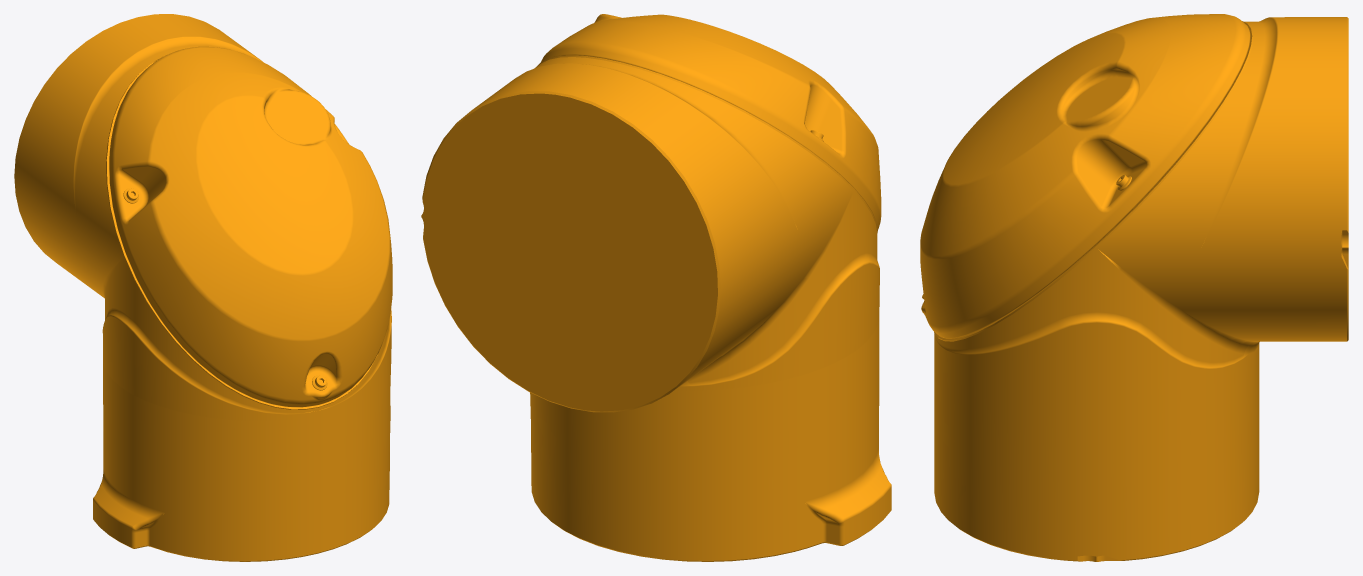
The picture shows the model from 3 angles, left to right: view 1: azimuth 30°, elevation 25°; view 2: azimuth 150°, elevation 25°; view 3: azimuth 270°, elevation 25°; orthographic projection. The views are drawn at different scales.
Visible parts, largest first — view 1: PART_J1_from_XG0000072A; view 2: PART_J1_from_XG0000072A; view 3: PART_J1_from_XG0000072A.
Part boxes in pixels (x1=…): PART_J1_from_XG0000072A: x1=14, y1=14, x2=392, y2=561; PART_J1_from_XG0000072A: x1=421, y1=14, x2=891, y2=561; PART_J1_from_XG0000072A: x1=920, y1=14, x2=1348, y2=561.
Size of the model in its own units: 0.1872 by 0.2296 by 0.2749.
